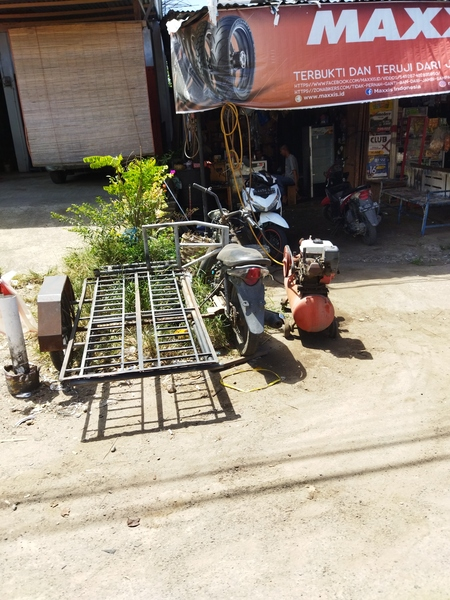becak barang: (31, 205, 270, 391)
motorcycle: (319, 166, 389, 242), (238, 169, 292, 257)
